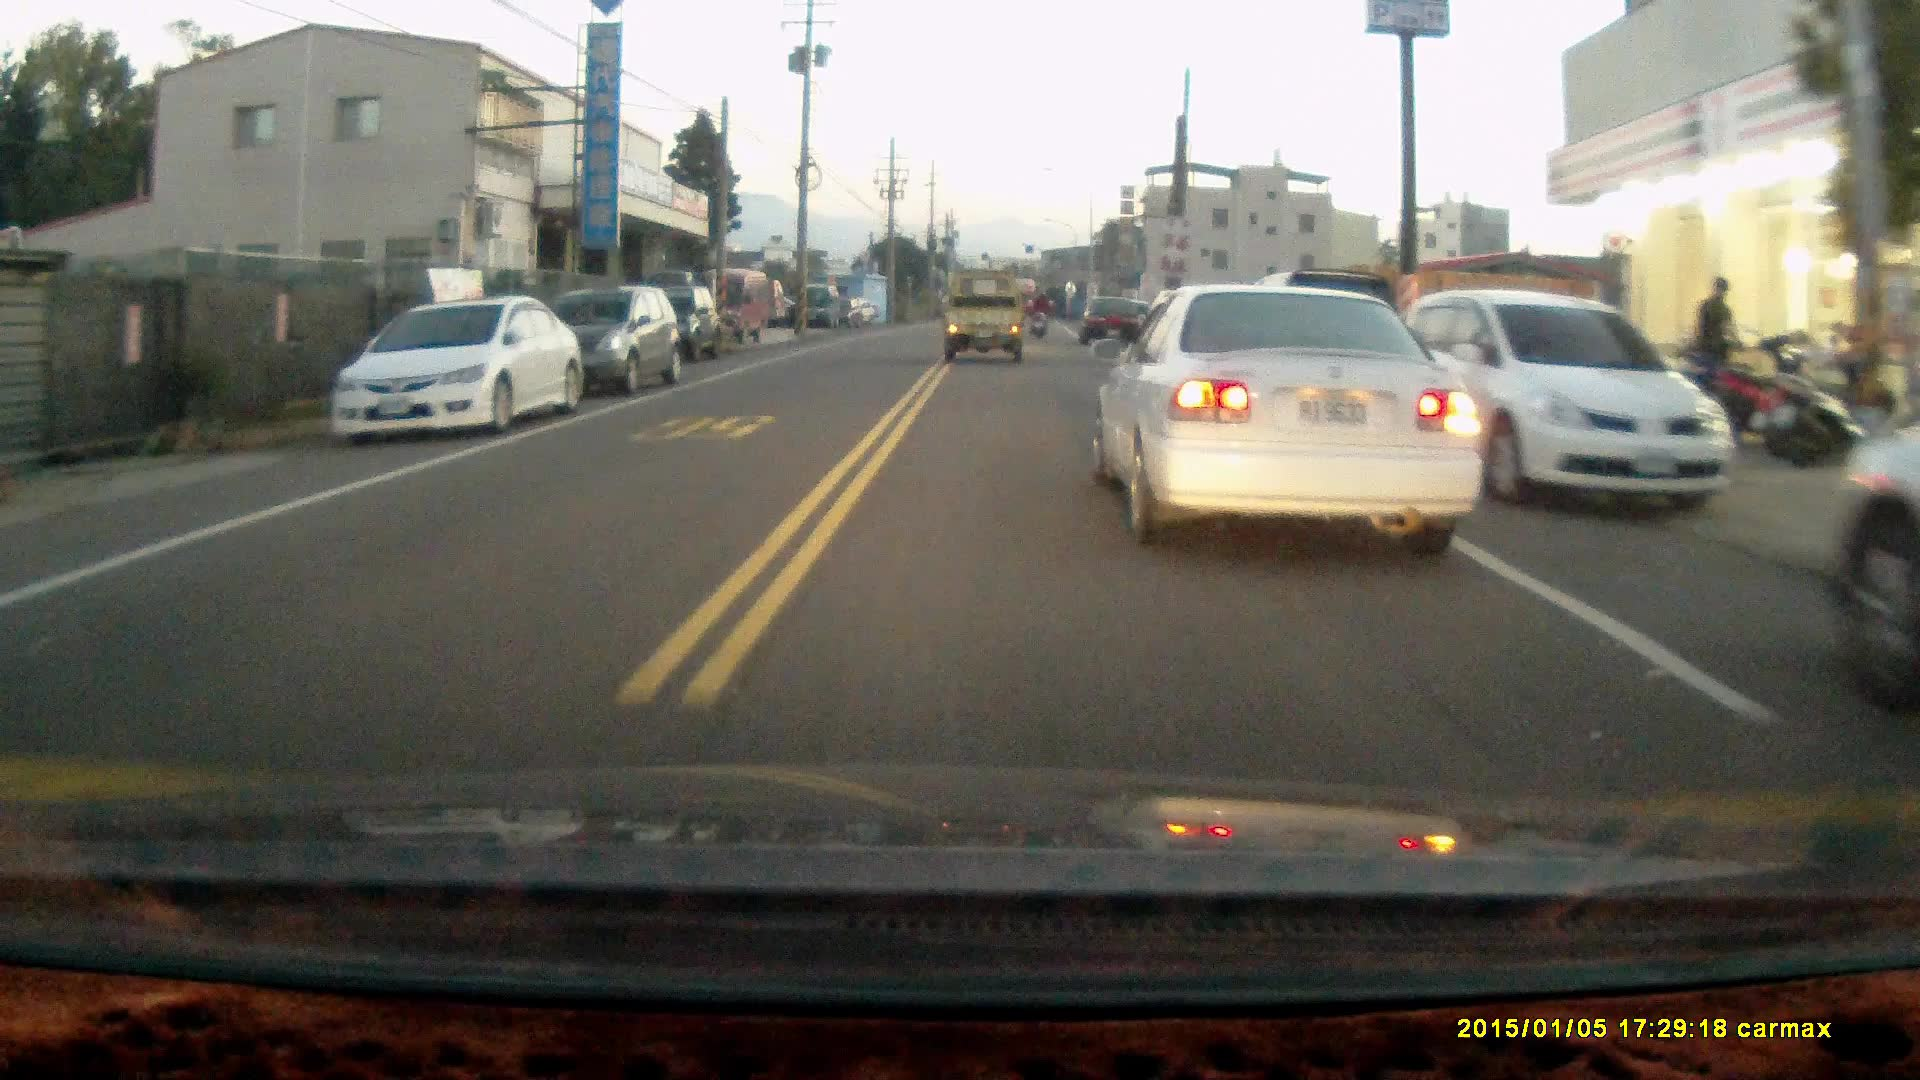pedestrian: (1693, 274, 1741, 389)
rider: (1025, 288, 1052, 336)
vehicle: (1096, 285, 1484, 556), (1392, 292, 1739, 519), (328, 295, 585, 446), (518, 288, 683, 402), (945, 272, 1032, 370), (624, 283, 727, 367), (697, 266, 773, 344), (1084, 295, 1147, 345)
